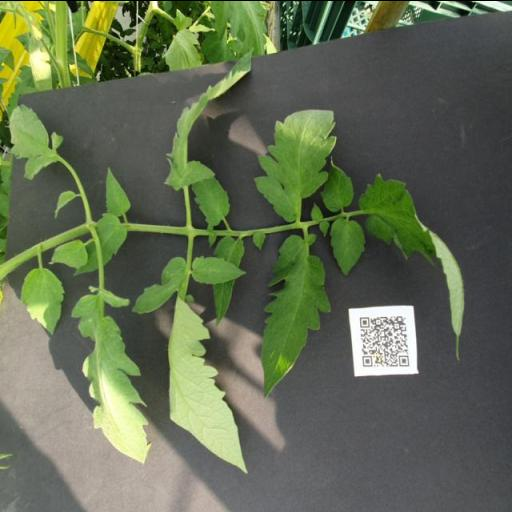Healthy: (357, 172, 466, 364), (70, 284, 152, 464), (162, 48, 256, 192), (260, 233, 332, 401), (254, 106, 338, 220), (7, 104, 65, 180), (71, 212, 129, 276), (21, 266, 65, 336), (328, 216, 367, 276), (190, 174, 232, 226), (318, 154, 356, 210), (46, 238, 90, 268)
